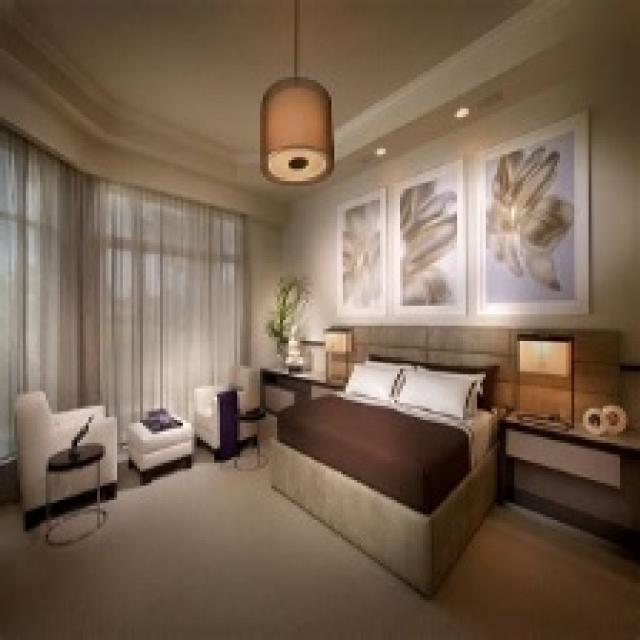Bed: (266, 354, 503, 597)
